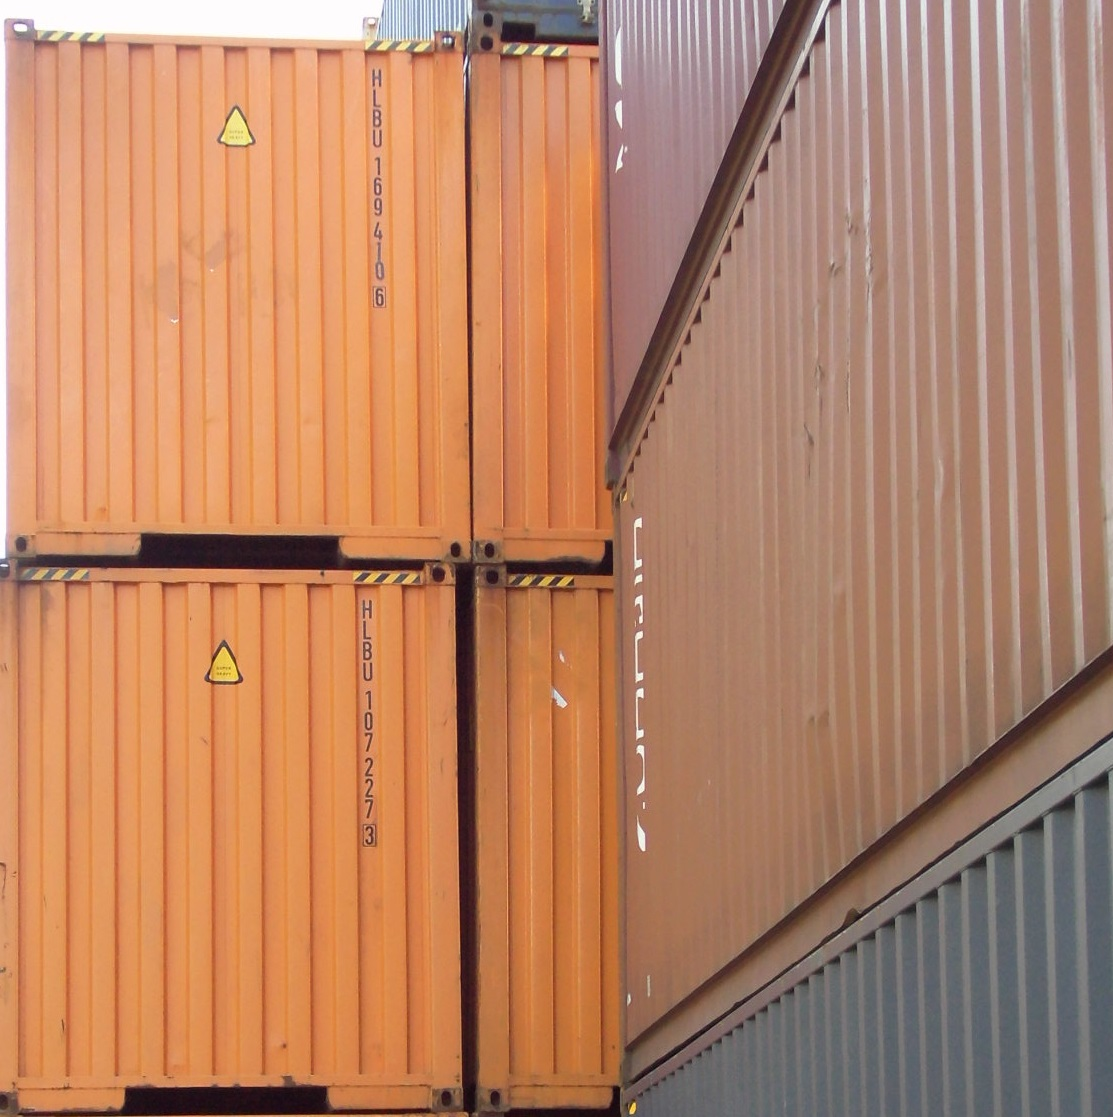container_no_door: (1, 560, 467, 1116), (10, 29, 464, 557)
